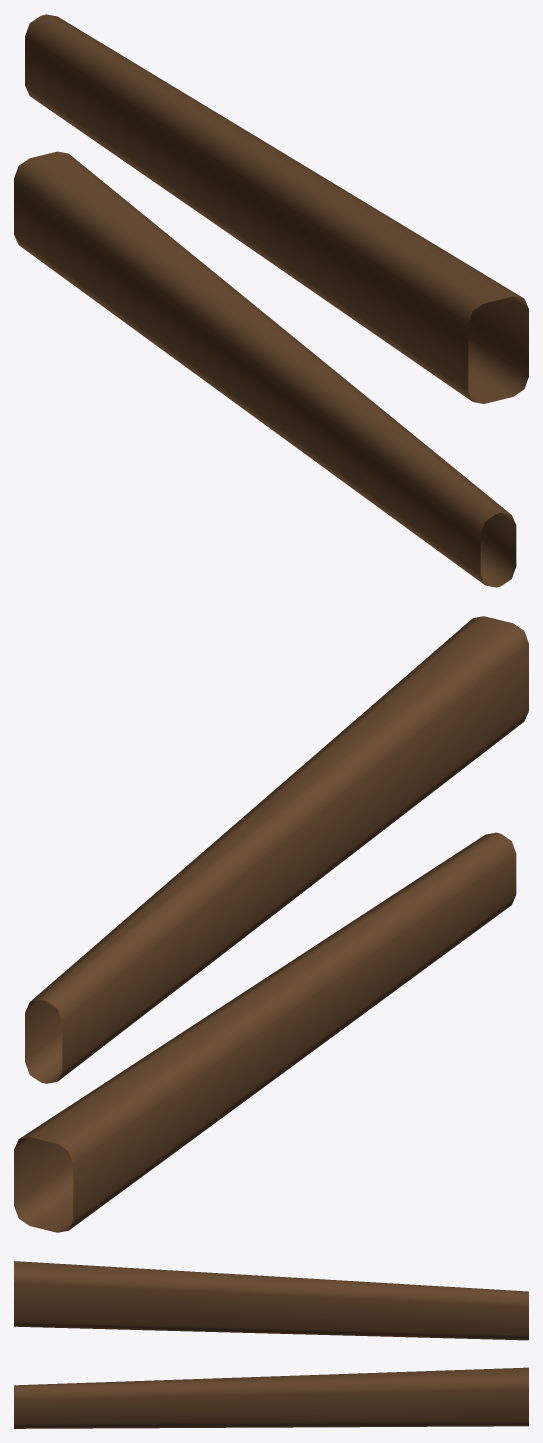
The model's file is fence-type-2.fbx.
The picture shows the model from 3 angles, top to bottom: view 1: azimuth 30°, elevation 25°; view 2: azimuth 150°, elevation 25°; view 3: azimuth 270°, elevation 25°; orthographic projection. The views are drawn at different scales.
Visible parts, largest first — view 1: fence-type-2; view 2: fence-type-2; view 3: fence-type-2.
Boxes of the visible parts, x1,y1,x2,y2 form: fence-type-2: (14, 14, 528, 587); fence-type-2: (14, 616, 528, 1232); fence-type-2: (14, 1261, 528, 1428).
Size of the model in its own units: 0.1544 by 0.6962 by 2.
